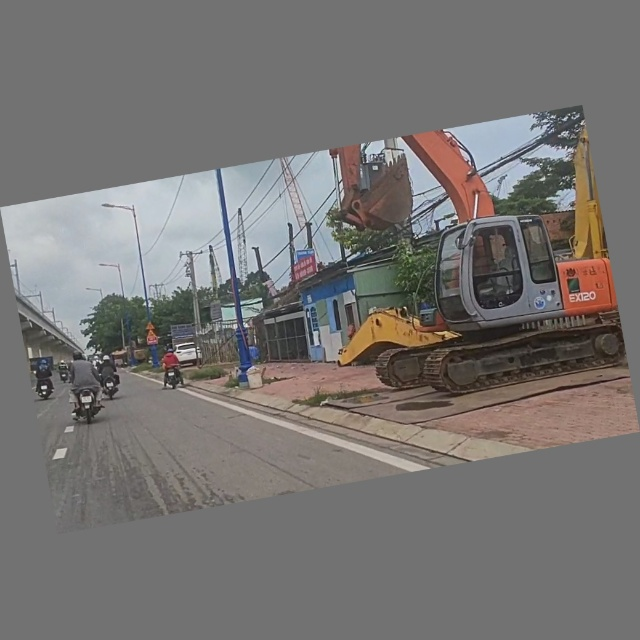W.203c: (144, 321, 156, 331)
W.245a: (145, 329, 158, 339)
